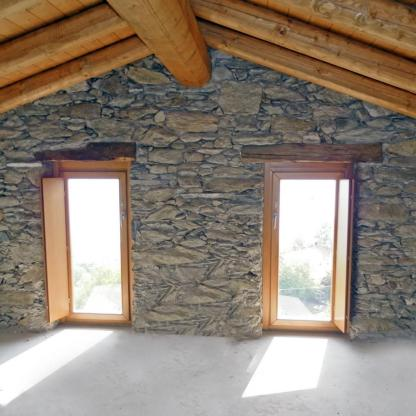Window: (268, 166, 348, 338), (50, 168, 134, 323)
